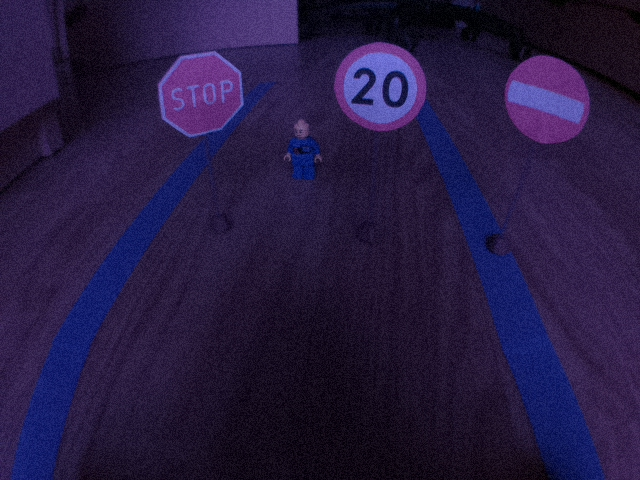LEGO_person: (283, 113, 324, 185)
ogr_20: (330, 40, 430, 135)
stop: (154, 47, 247, 140)
zakaz: (503, 53, 591, 149)
